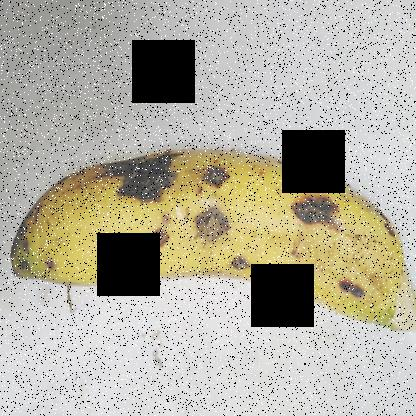rotten: (94, 141, 190, 219), (294, 158, 350, 244), (364, 178, 407, 250), (186, 209, 241, 254), (322, 265, 373, 313), (142, 218, 182, 268), (228, 240, 258, 292), (204, 155, 232, 190)
